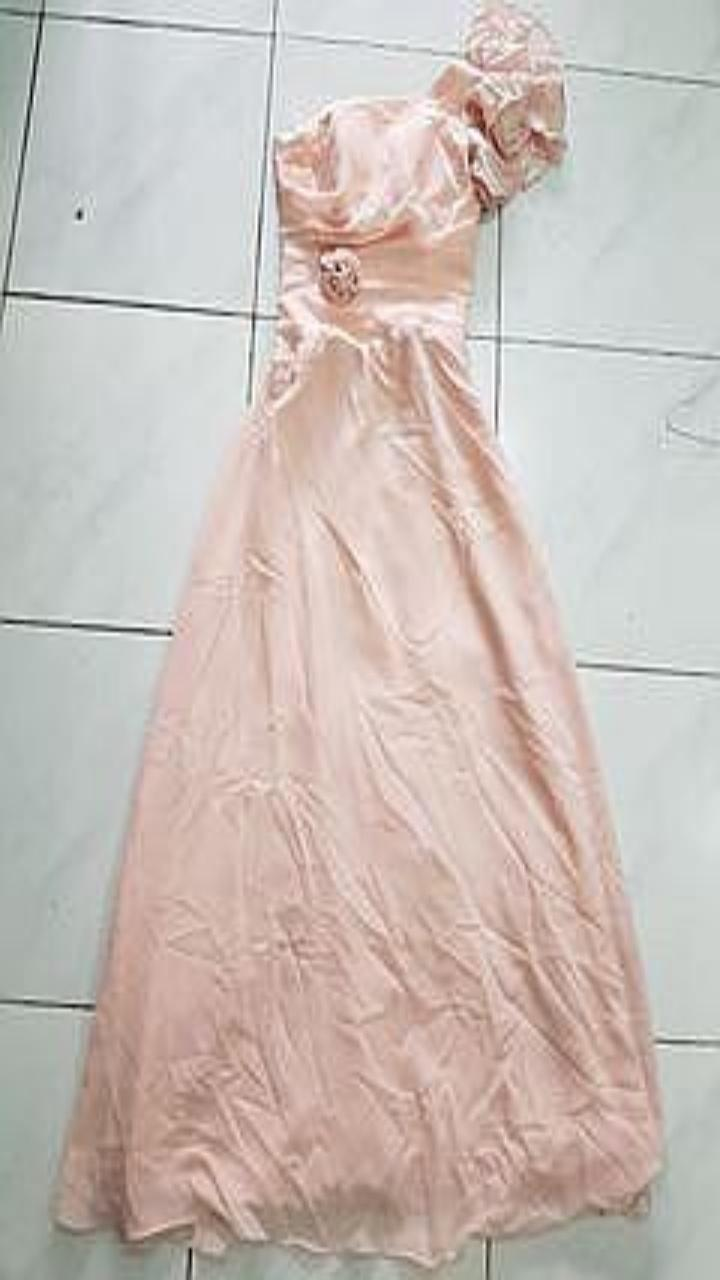Dresses: (55, 3, 660, 1266)
